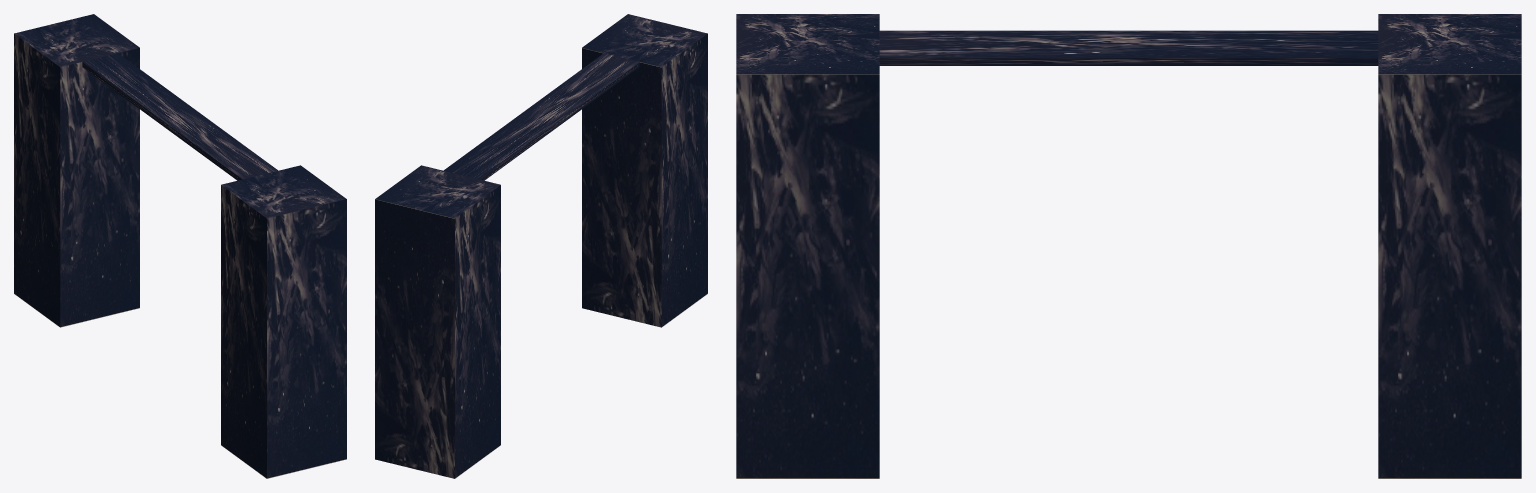
The model's file is bridge.obj.
3 views of the same model, side by side, from view 1: azimuth 30°, elevation 25°; view 2: azimuth 150°, elevation 25°; view 3: azimuth 270°, elevation 25° (orthographic). The views are drawn at different scales.
Parts seen in each view (by area): view 1: Cube.000_Cube.001, Cube.000_Cube.002, Cube_Cube.003; view 2: Cube.000_Cube.002, Cube.000_Cube.001, Cube_Cube.003; view 3: Cube.000_Cube.002, Cube.000_Cube.001, Cube_Cube.003.
Part boxes in pixels (left/top/right/bottom): Cube.000_Cube.001: left=221, top=165, right=346, bottom=478; Cube.000_Cube.002: left=14, top=14, right=139, bottom=327; Cube_Cube.003: left=82, top=53, right=277, bottom=180; Cube.000_Cube.002: left=375, top=165, right=500, bottom=478; Cube.000_Cube.001: left=582, top=14, right=707, bottom=327; Cube_Cube.003: left=444, top=53, right=639, bottom=180; Cube.000_Cube.002: left=1378, top=14, right=1521, bottom=478; Cube.000_Cube.001: left=736, top=14, right=879, bottom=478; Cube_Cube.003: left=879, top=30, right=1378, bottom=65.
Size of the model in its own units: 4.46 by 13.9 by 24.46.
